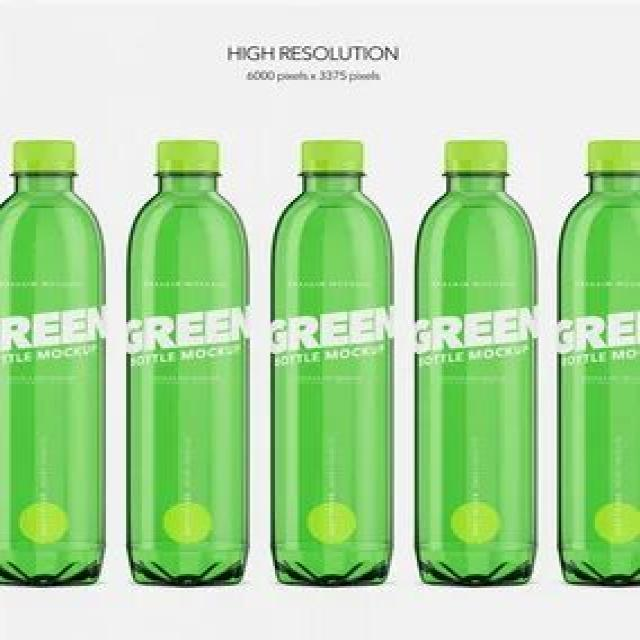green: (126, 172, 248, 585), (272, 173, 394, 585), (415, 170, 535, 587)
